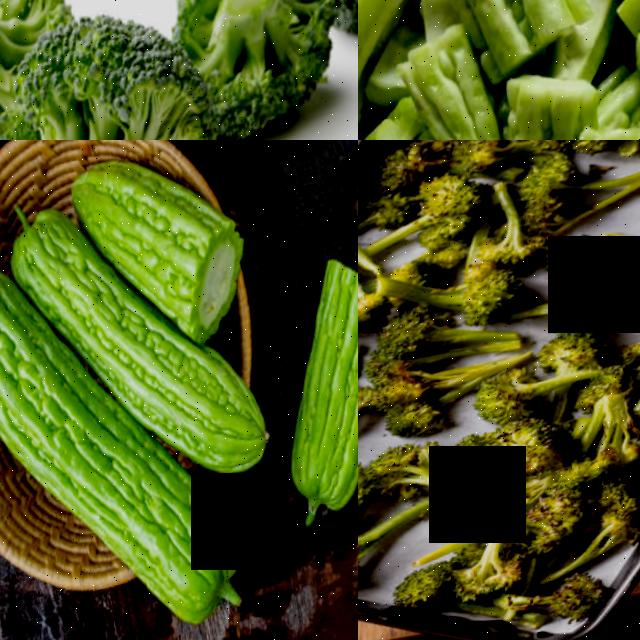bitter gourd: (249, 207, 358, 587), (71, 140, 263, 329), (89, 438, 240, 640), (146, 339, 286, 478)
broccoli: (421, 496, 640, 640), (26, 13, 272, 140), (358, 312, 527, 448), (174, 0, 325, 140), (410, 244, 561, 345), (360, 167, 506, 265)
